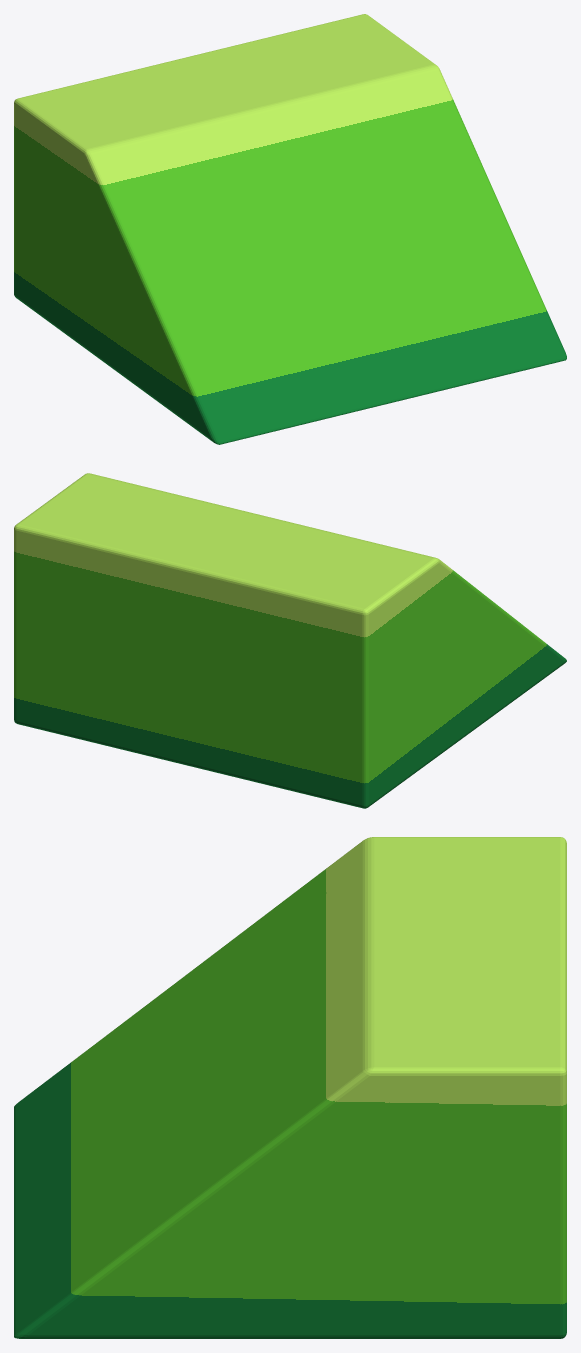
File: ramp2.fbx
3 renders of one model, top to bottom at view 1: azimuth 30°, elevation 25°; view 2: azimuth 150°, elevation 25°; view 3: azimuth 270°, elevation 25°, orthographic. The views are drawn at different scales.
Visible parts, largest first — view 1: Cube.006; view 2: Cube.006; view 3: Cube.006.
Boxes of the visible parts, <box> form: Cube.006: <box>14,14,566,444</box>; Cube.006: <box>14,473,566,808</box>; Cube.006: <box>14,837,566,1338</box>.
Size of the model in its own units: 2087 by 1122 by 2074.
1 material, 1 textured.
